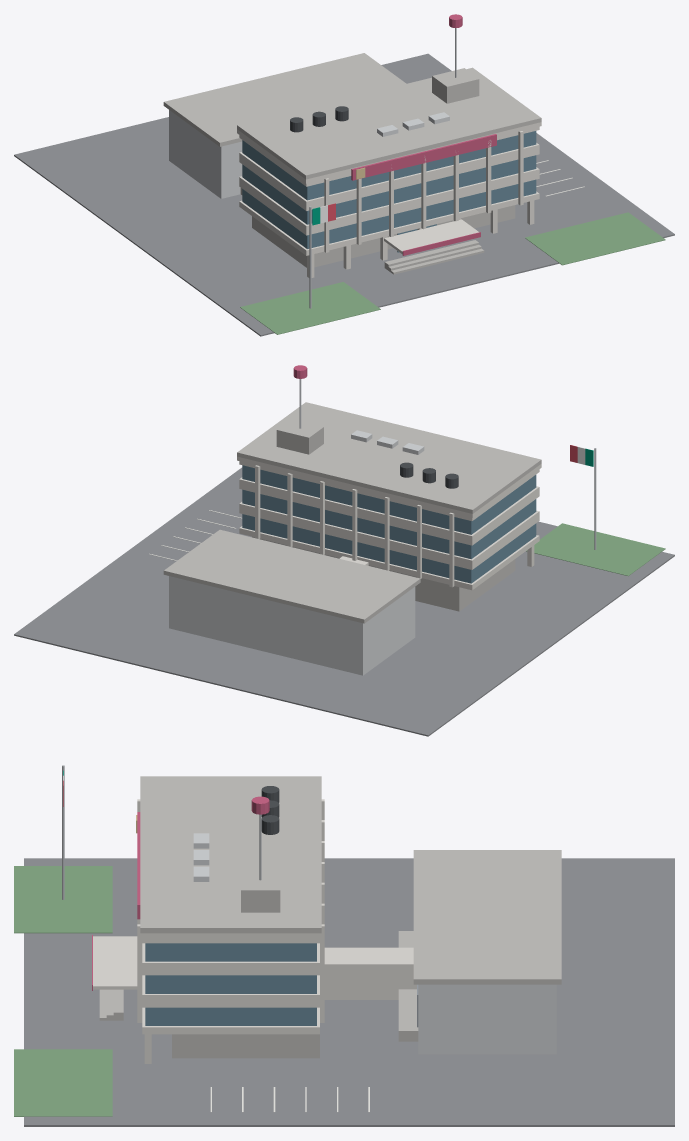
The model's file is delegacion.glb.
3 views of the same model, one above another, from view 1: azimuth 30°, elevation 25°; view 2: azimuth 150°, elevation 25°; view 3: azimuth 270°, elevation 25° (orthographic). The views are drawn at different scales.
Parts seen in each view (by area): view 1: DL_Predio, DL_ConcretoOsc, DL_Concreto, DL_Vidrio, DL_Jardin, DL_Lamina, DL_Semaforo, DL_Tinaco; view 2: DL_Predio, DL_ConcretoOsc, DL_Lamina, DL_Concreto, DL_Vidrio, DL_Jardin, DL_Tinaco; view 3: DL_Predio, DL_ConcretoOsc, DL_Concreto, DL_Jardin, DL_Lamina, DL_Vidrio, DL_Semaforo, DL_Tinaco, DL_Metal.
Part boxes in pixels (x1=…): DL_Predio: x1=14, y1=53, x2=674, y2=336; DL_ConcretoOsc: x1=163, y1=53, x2=541, y2=274; DL_Concreto: x1=237, y1=122, x2=541, y2=277; DL_Vidrio: x1=242, y1=131, x2=536, y2=252; DL_Jardin: x1=240, y1=212, x2=665, y2=334; DL_Lamina: x1=169, y1=110, x2=449, y2=198; DL_Semaforo: x1=351, y1=14, x2=496, y2=255; DL_Tinaco: x1=290, y1=106, x2=348, y2=132; DL_Predio: x1=14, y1=467, x2=674, y2=736; DL_ConcretoOsc: x1=163, y1=402, x2=541, y2=623; DL_Lamina: x1=169, y1=430, x2=424, y2=675; DL_Concreto: x1=237, y1=456, x2=541, y2=590; DL_Vidrio: x1=242, y1=465, x2=536, y2=583; DL_Jardin: x1=526, y1=523, x2=665, y2=576; DL_Tinaco: x1=400, y1=462, x2=458, y2=488; DL_Predio: x1=24, y1=858, x2=674, y2=1126; DL_ConcretoOsc: x1=99, y1=776, x2=561, y2=1058; DL_Concreto: x1=93, y1=799, x2=416, y2=1063; DL_Jardin: x1=14, y1=866, x2=112, y2=1116; DL_Lamina: x1=193, y1=833, x2=556, y2=1054; DL_Vidrio: x1=145, y1=943, x2=316, y2=1025; DL_Semaforo: x1=92, y1=796, x2=269, y2=990; DL_Tinaco: x1=261, y1=786, x2=279, y2=834; DL_Metal: x1=62, y1=765, x2=261, y2=899.
Bounding box in the file's own units: 64 × 27.2 × 67.
